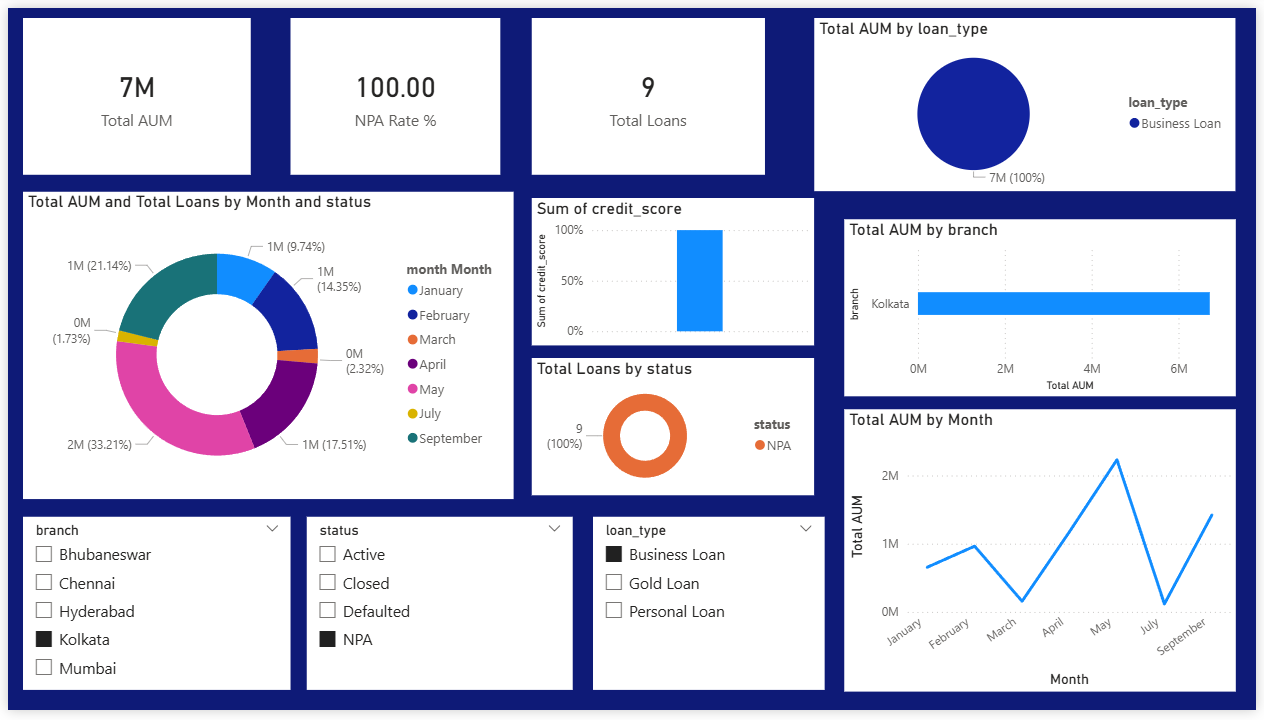

What the dashboard file says about the page in this screenshot:
{"tool":"powerbi","page":{"name":"Page 1","canvas":[1280,720],"ordinal":0},"visuals":[{"type":"card","fields":{"Values":["loans.Total AUM"]},"box":[15.3,10.2,233.9,161],"z":0},{"type":"card","fields":{"Values":["loans.Total Loans"]},"box":[537.3,10.2,239,161],"z":1000},{"type":"card","fields":{"Values":["loans.NPA Rate %"]},"box":[289.8,10.2,215.3,161],"z":2000},{"type":"donutChart","fields":{"Category":["loans.month.Variation.Date Hierarchy.Month"],"Y":["loans.Total AUM"],"Series":["loans.status"]},"box":[15.3,188.1,503.4,315.3],"z":3000},{"type":"clusteredBarChart","fields":{"Category":["loans.branch"],"Y":["loans.Total AUM"]},"box":[857.8,217.2,401.6,181.2],"z":4000},{"type":"slicer","fields":{"Values":["loans.loan_type"]},"box":[600,522,237.3,178],"z":5000},{"type":"slicer","fields":{"Values":["loans.status"]},"box":[306.8,522,272.9,178],"z":6000},{"type":"lineChart","fields":{"Category":["loans.month.Variation.Date Hierarchy.Month"],"Y":["loans.Total AUM"]},"box":[857.6,411.9,401.7,289.8],"z":7000},{"type":"donutChart","fields":{"Category":["loans.status"],"Y":["loans.Total Loans"]},"box":[537.3,359.3,289.8,140.7],"z":8000},{"type":"slicer","fields":{"Values":["loans.branch"]},"box":[15.3,522,274.6,178],"z":9000},{"type":"pieChart","fields":{"Category":["loans.loan_type"],"Y":["loans.Total AUM"]},"box":[827.1,10.2,432.2,178],"z":10000},{"type":"hundredPercentStackedColumnChart","fields":{"Y":["Sum(loans.credit_score)"]},"box":[537.3,194.9,289.8,150.8],"z":10001}]}

Visuals, with their boxes in screenshot pixels (x1, y1, x2, y2), scaled from the page's 1280x720 canvas onto the 1264x720 screenshot:
card - loans.Total AUM: <region>15, 10, 246, 171</region>
card - loans.Total Loans: <region>531, 10, 767, 171</region>
card - loans.NPA Rate %: <region>286, 10, 499, 171</region>
donutChart - loans.month.Variation.Date Hierarchy.Month x loans.Total AUM: <region>15, 188, 512, 503</region>
clusteredBarChart - loans.branch x loans.Total AUM: <region>847, 217, 1244, 398</region>
slicer - loans.loan_type: <region>592, 522, 827, 700</region>
slicer - loans.status: <region>303, 522, 572, 700</region>
lineChart - loans.month.Variation.Date Hierarchy.Month x loans.Total AUM: <region>847, 412, 1244, 702</region>
donutChart - loans.status x loans.Total Loans: <region>531, 359, 817, 500</region>
slicer - loans.branch: <region>15, 522, 286, 700</region>
pieChart - loans.loan_type x loans.Total AUM: <region>817, 10, 1244, 188</region>
hundredPercentStackedColumnChart - Sum(loans.credit_score): <region>531, 195, 817, 346</region>
